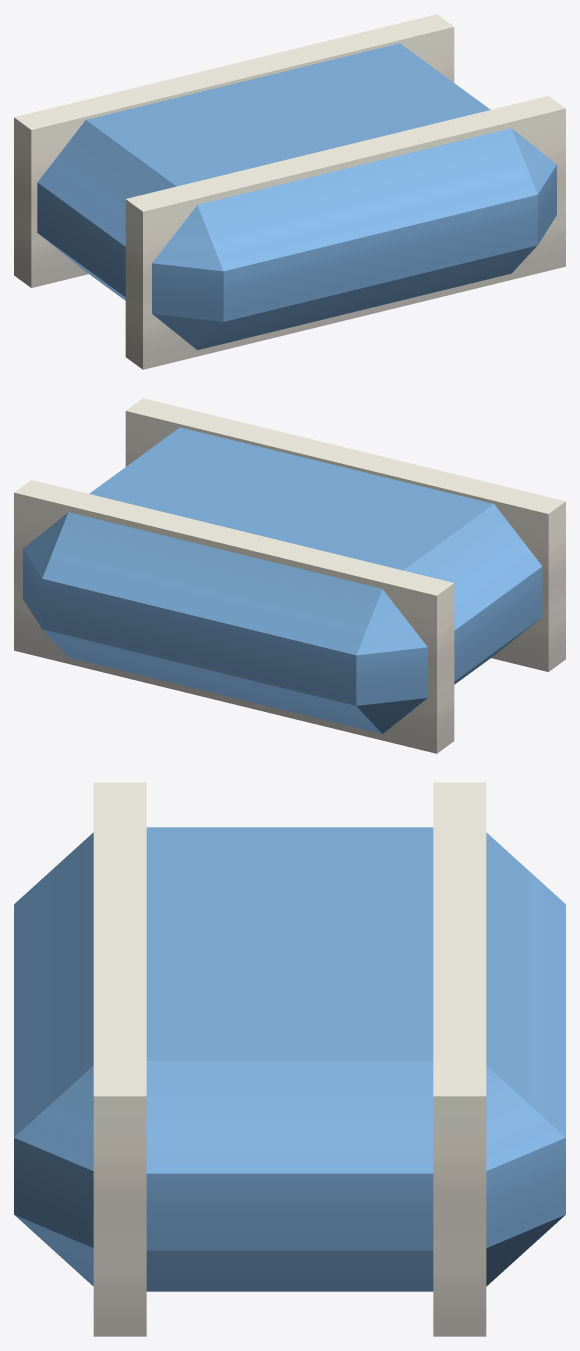
The model's file is Cobertor.fbx.
3 renders of one model, top to bottom at view 1: azimuth 30°, elevation 25°; view 2: azimuth 150°, elevation 25°; view 3: azimuth 270°, elevation 25°, orthographic. The views are drawn at different scales.
Visible parts, largest first — view 1: Cobertor_Malha; view 2: Cobertor_Malha; view 3: Cobertor_Malha.
Boxes of the visible parts, x1,y1,x2,y2 form: Cobertor_Malha: (14, 14, 565, 369); Cobertor_Malha: (14, 398, 565, 753); Cobertor_Malha: (14, 782, 565, 1336).
Size of the model in its own units: 0.35 by 0.125 by 0.26.
